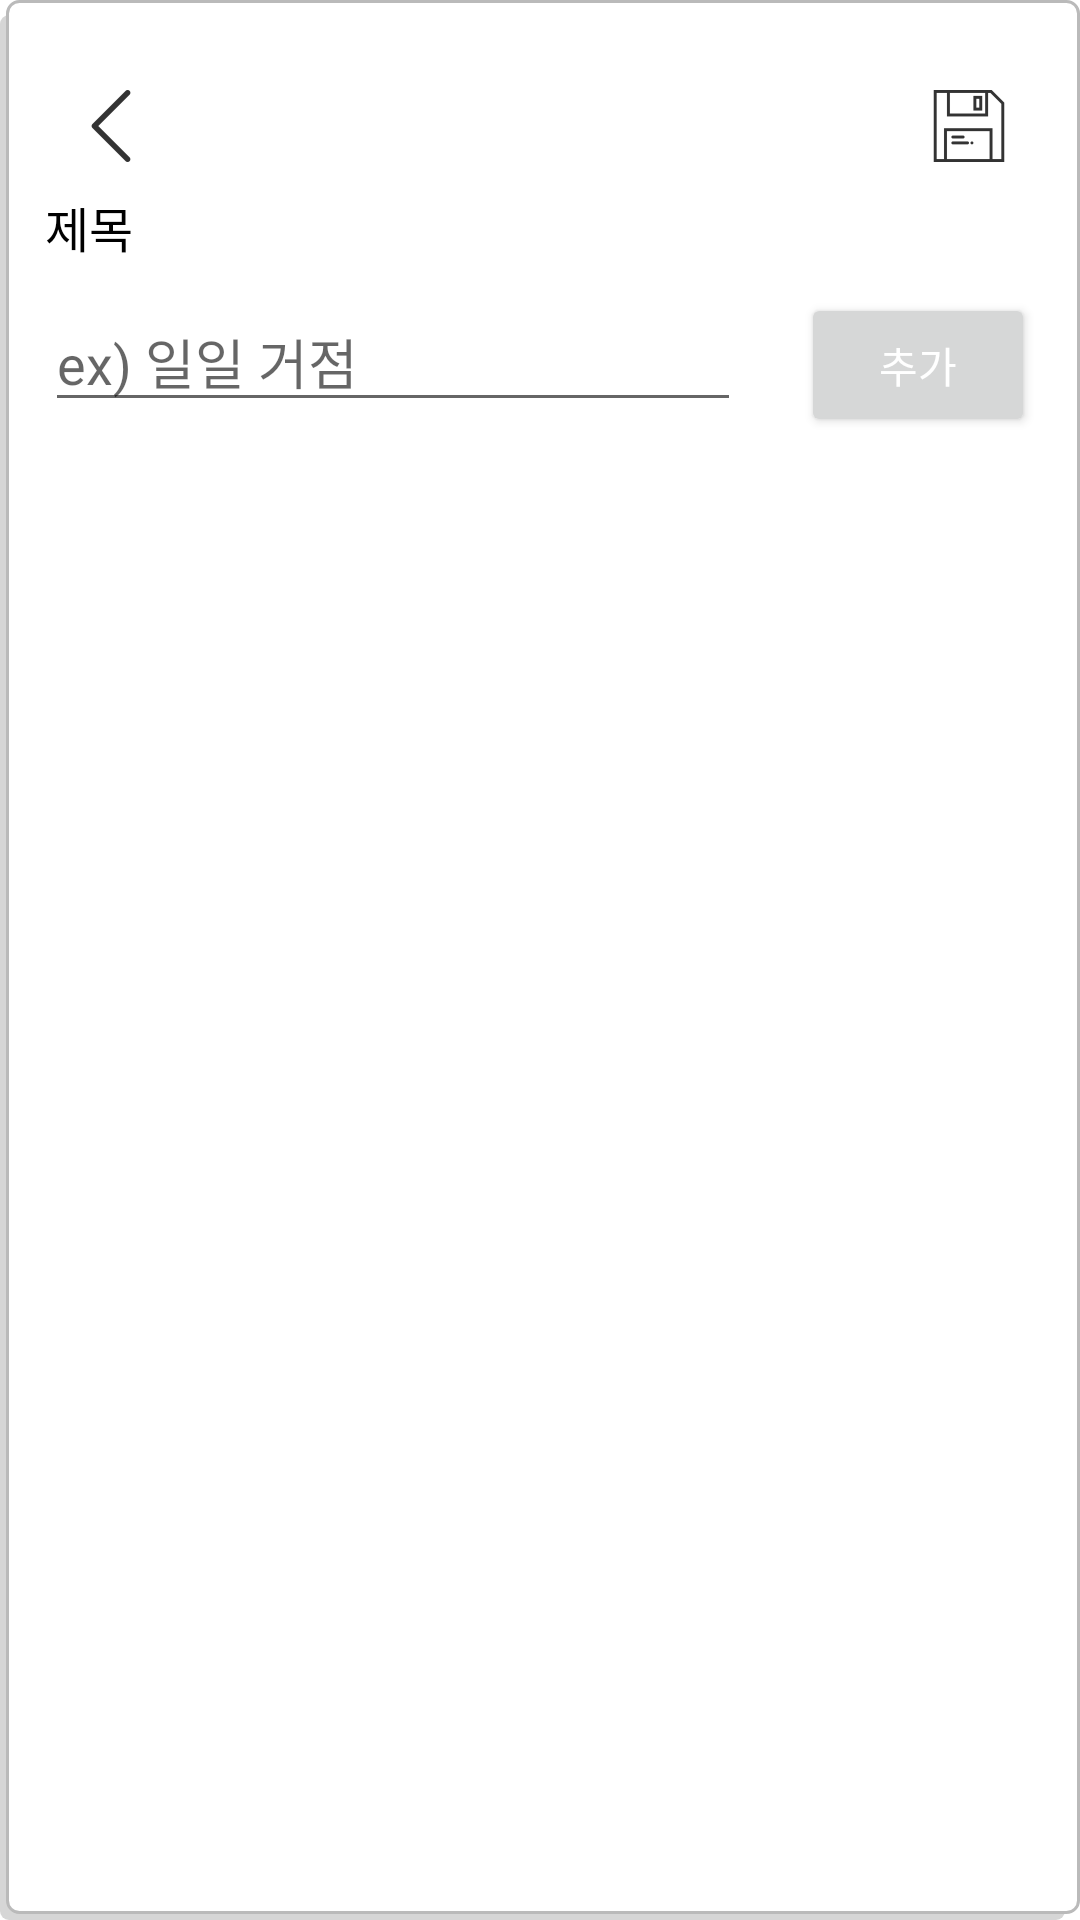

Where icons sit on this 1080w x 1920h app screen, as bbox=(x1, y1, x2, y2):
back: bbox=(91, 90, 131, 162)
save: bbox=(933, 90, 1005, 162)
